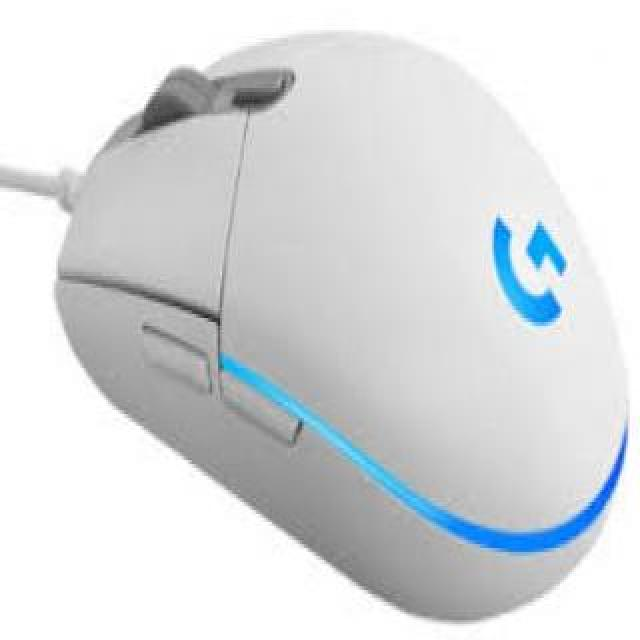mouse: (46, 49, 638, 610)
